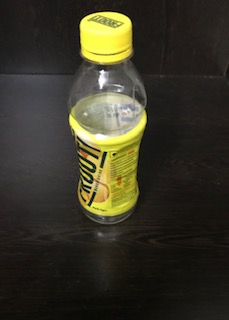bottle: (63, 7, 155, 229)
